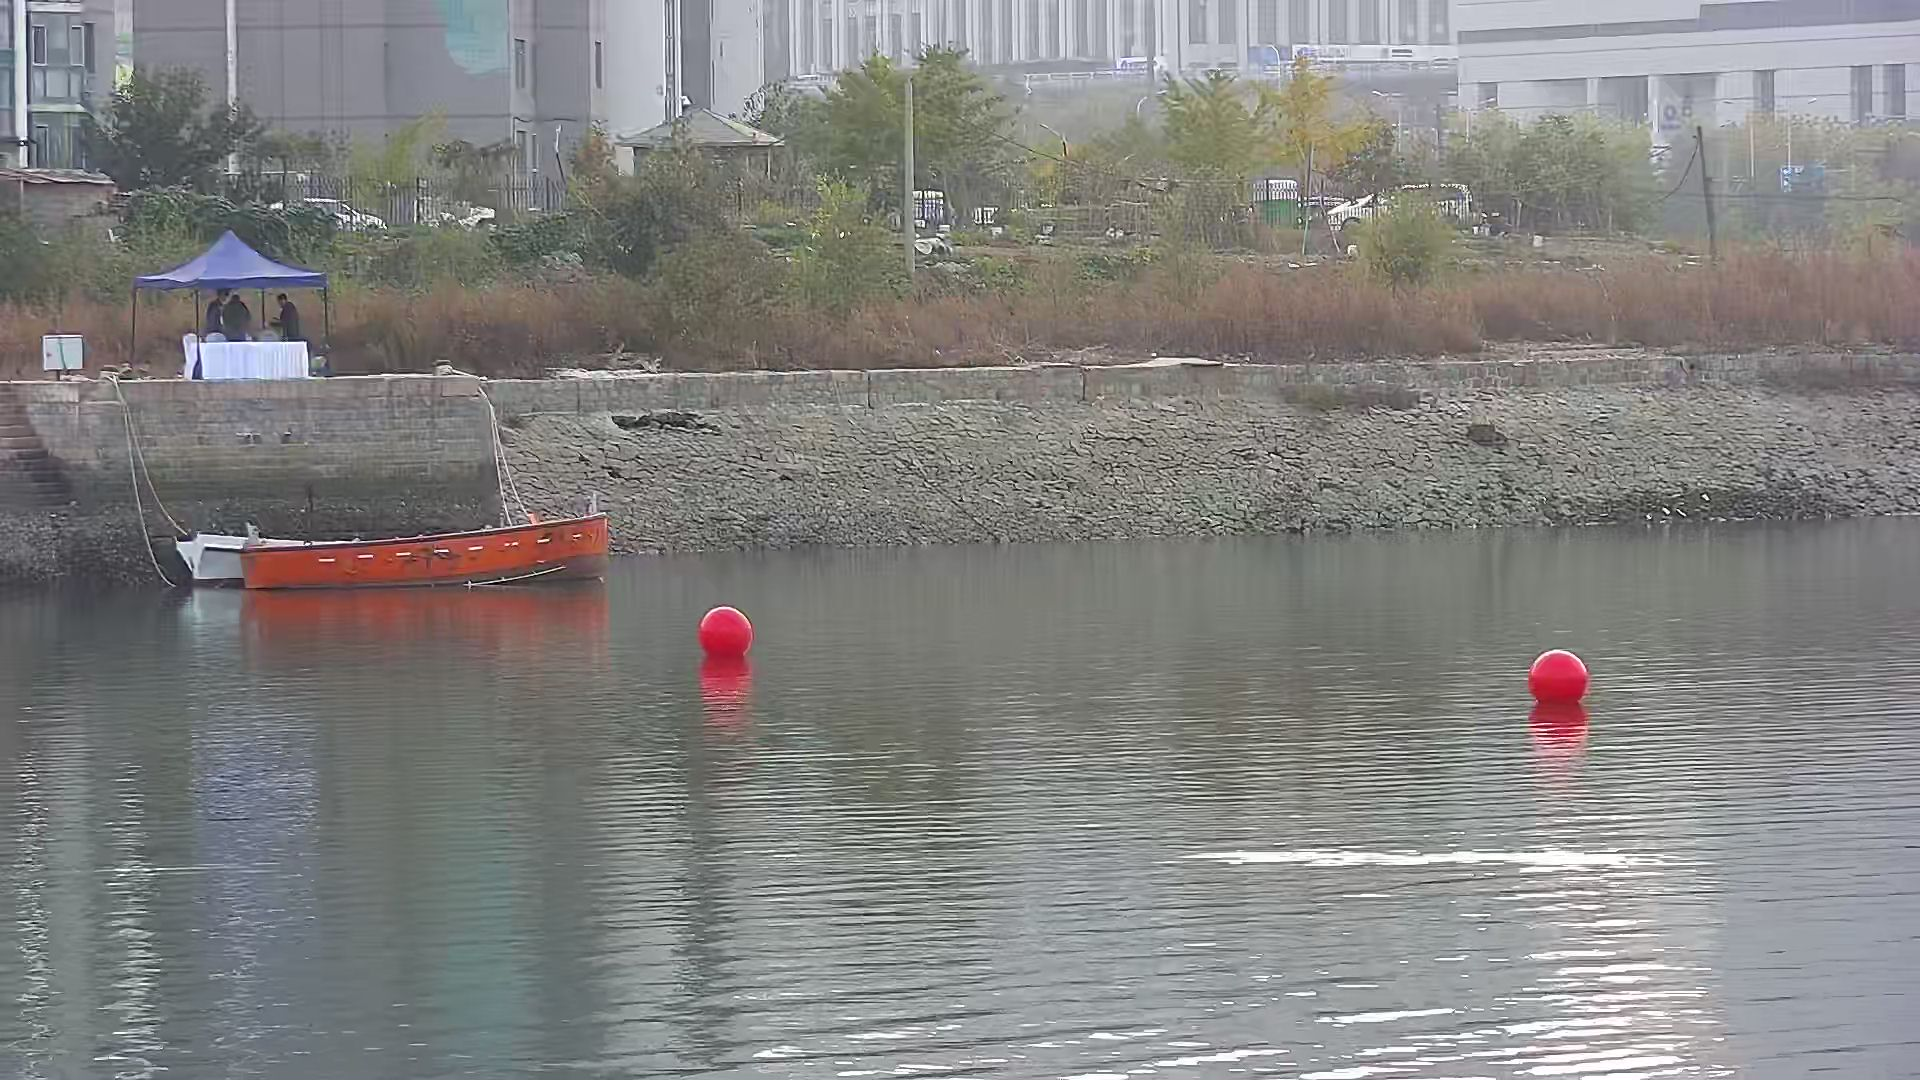ball: (1530, 644, 1590, 705), (696, 604, 756, 659)
boat: (237, 506, 615, 592)
